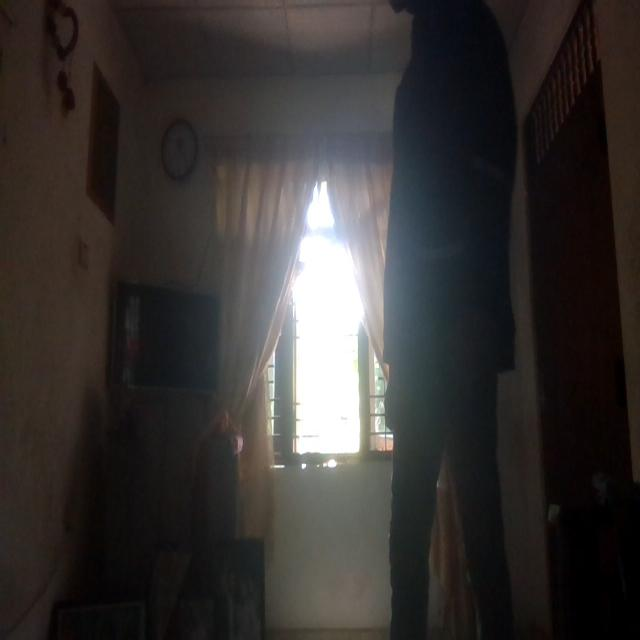Jacket_Wearer: (380, 16, 518, 363)
Person: (379, 0, 526, 636)
